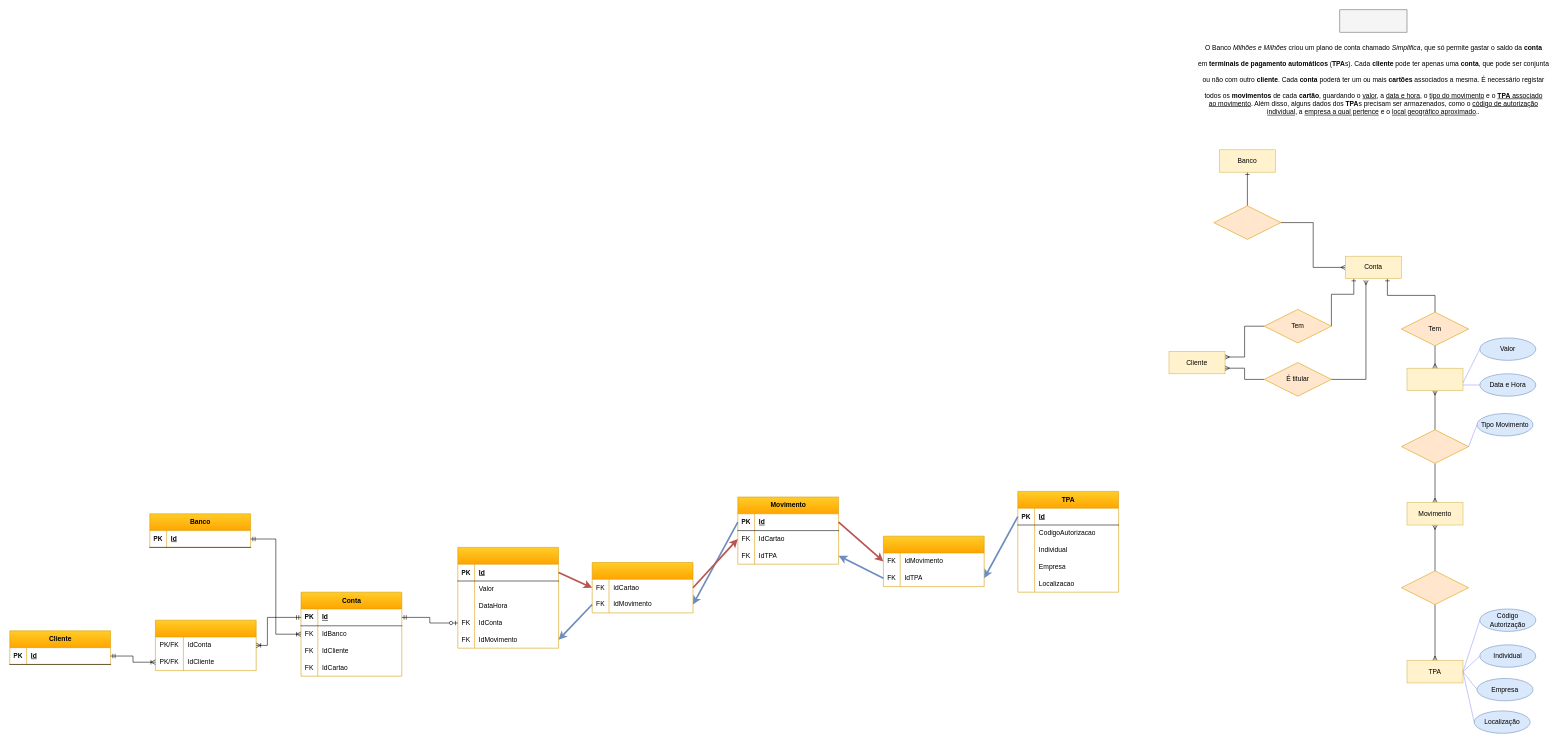
This 1565x743 diagram has some shape labels left out. Here are the shapes that lost their labels. From the top down, the box of each, then its label:
(1339, 9, 1407, 32): Exercício 2
(1213, 205, 1281, 239): Contém
(1406, 368, 1463, 391): Cartão
(1401, 429, 1469, 463): Faz
(883, 536, 984, 587): Movimento/TPA
(457, 547, 559, 648): Cartao
(592, 562, 693, 613): Cartao/Movimentos
(1401, 570, 1469, 605): Levanta
(155, 620, 256, 671): Conta/Cliente
